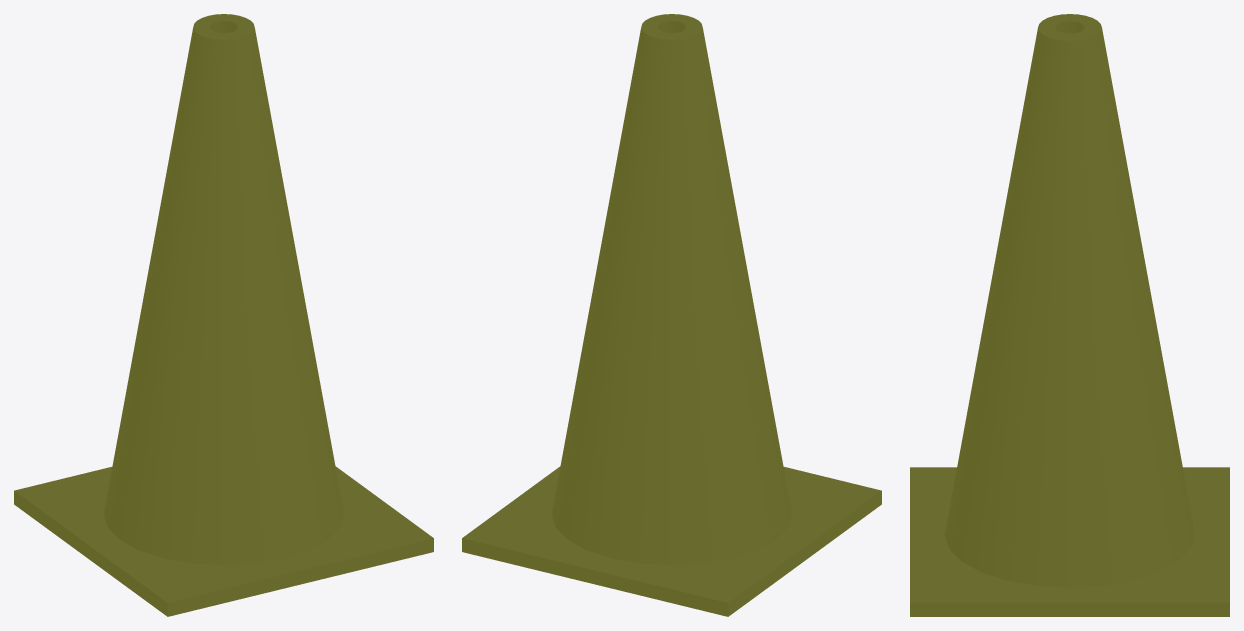
Rendered from Standard Cone.glb.
The picture shows the model from 3 angles, left to right: view 1: azimuth 30°, elevation 25°; view 2: azimuth 150°, elevation 25°; view 3: azimuth 270°, elevation 25°; orthographic projection. The views are drawn at different scales.
Parts seen in each view (by area): view 1: Box001; view 2: Box001; view 3: Box001.
Boxes of the visible parts, x1,y1,x2,y2 form: Box001: (14, 14, 433, 616); Box001: (462, 14, 881, 616); Box001: (910, 14, 1229, 616).
Size of the model in its own units: 10 by 18 by 10.
